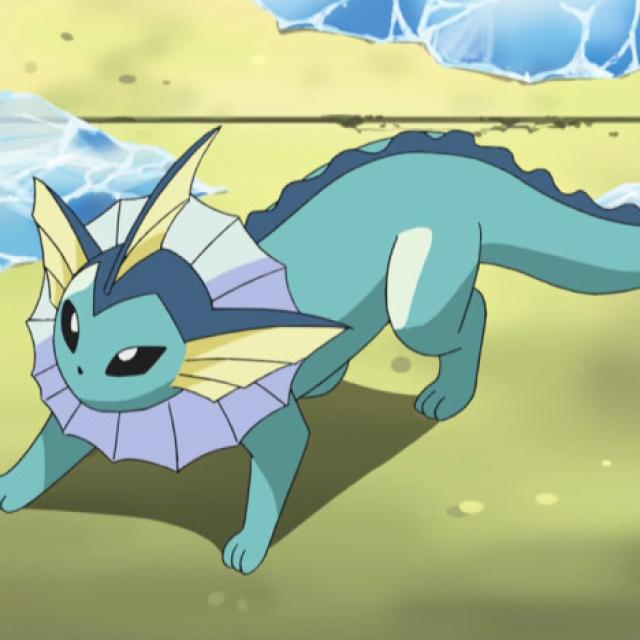Vaporeon: (0, 72, 524, 468)
